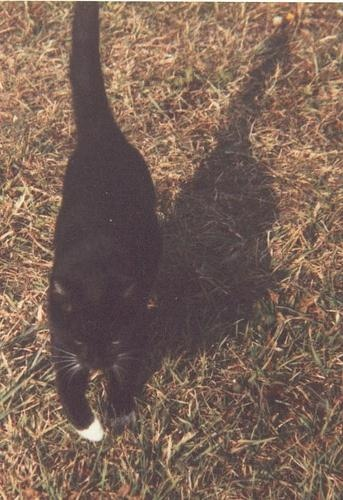cat: (44, 5, 151, 443)
